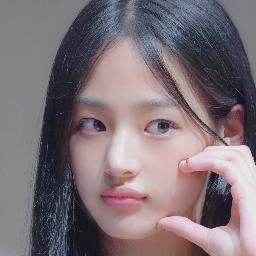face: (73, 52, 203, 236)
